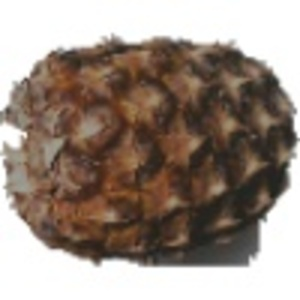abacaxi: (5, 40, 289, 253)
